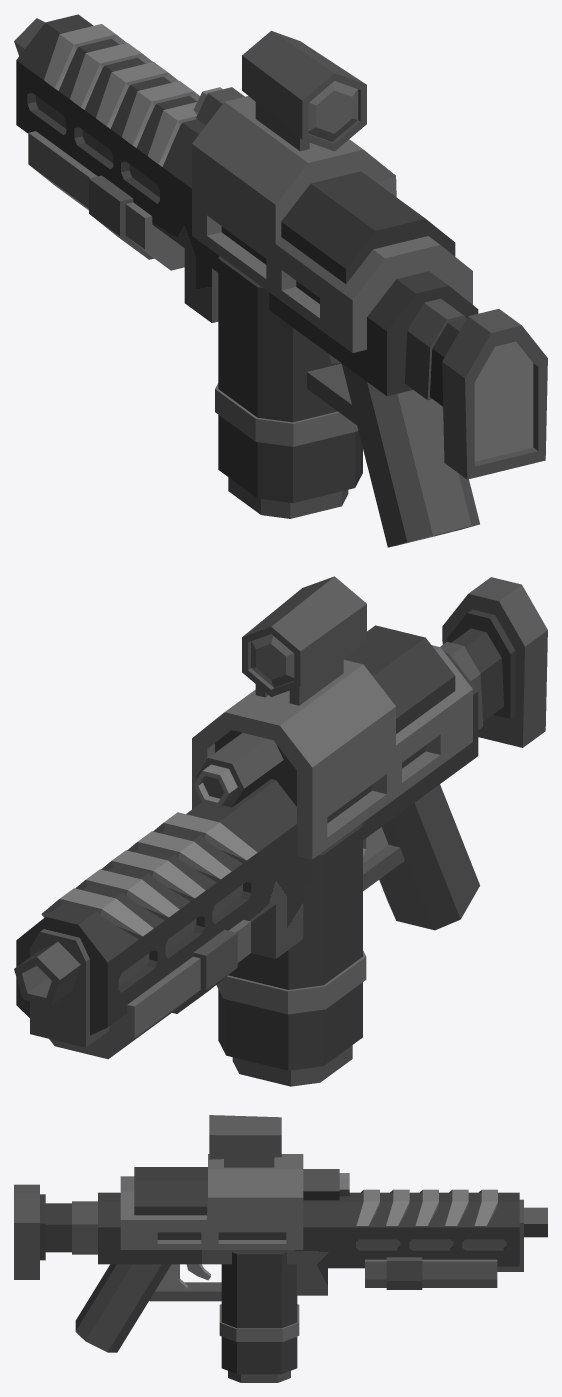
The model's file is subfusil_9.glb.
3 views of the same model, one above another, from view 1: azimuth 30°, elevation 25°; view 2: azimuth 150°, elevation 25°; view 3: azimuth 270°, elevation 25° (orthographic). The views are drawn at different scales.
Parts seen in each view (by area): view 1: subfusil_9, subfusil_scope_9, subfusil_charguer_9; view 2: subfusil_9, subfusil_scope_9, subfusil_charguer_9; view 3: subfusil_9, subfusil_scope_9, subfusil_charguer_9.
Part boxes in pixels (bbox=[...]): subfusil_9: bbox=[14, 14, 547, 547]; subfusil_scope_9: bbox=[242, 30, 366, 151]; subfusil_charguer_9: bbox=[228, 477, 348, 518]; subfusil_9: bbox=[14, 577, 547, 1070]; subfusil_scope_9: bbox=[242, 576, 366, 705]; subfusil_charguer_9: bbox=[232, 1045, 352, 1086]; subfusil_9: bbox=[14, 1154, 547, 1374]; subfusil_scope_9: bbox=[209, 1115, 281, 1167]; subfusil_charguer_9: bbox=[228, 1371, 290, 1382].
Size of the model in its own units: 0.3346 by 1.2 by 2.26.
Materials: 1 (1 with a texture image).
